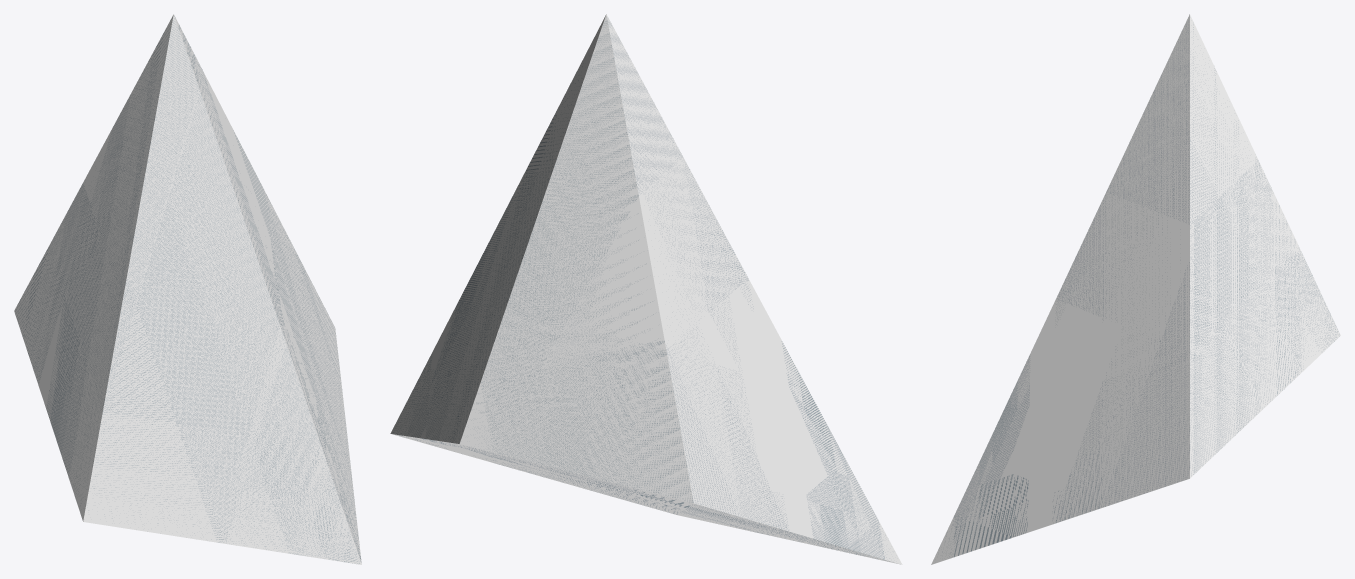
3 views of the same model, side by side, from view 1: azimuth 30°, elevation 25°; view 2: azimuth 150°, elevation 25°; view 3: azimuth 270°, elevation 25° (orthographic). The views are drawn at different scales.
Parts seen in each view (by area): view 1: Model; view 2: Model; view 3: Model.
Part boxes in pixels (<box>): Model: <box>14,14,361,564</box>; Model: <box>390,14,902,564</box>; Model: <box>931,14,1340,564</box>.
Size of the model in its own units: 3.01 by 4.34 by 3.13.
